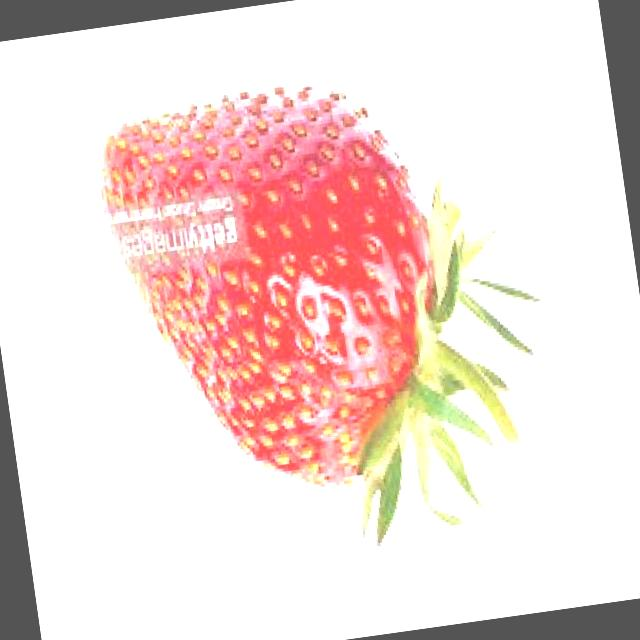Strawberry: (86, 72, 467, 522)
